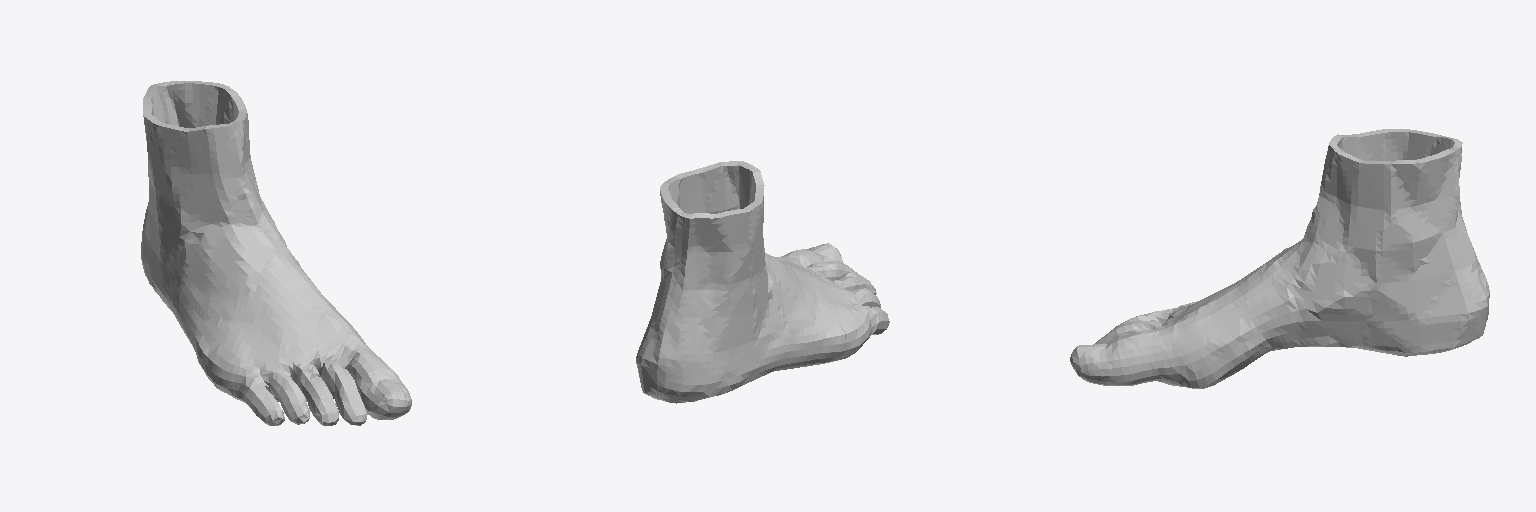
3 views of the same model, side by side, from view 1: azimuth 30°, elevation 25°; view 2: azimuth 150°, elevation 25°; view 3: azimuth 270°, elevation 25° (orthographic).
Visible parts, largest first — view 1: human_foot; view 2: human_foot; view 3: human_foot.
Part boxes in pixels (x1,y1,x2,y2): human_foot: (141, 81, 411, 425); human_foot: (636, 161, 889, 403); human_foot: (1070, 129, 1489, 388).
Size of the model in its own units: 0.9376 by 1.5 by 2.53.